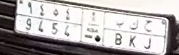4: (37, 3, 47, 34), (64, 7, 72, 39)
5: (52, 7, 61, 36)
9: (23, 1, 35, 32)
B: (113, 19, 125, 47)
J: (143, 19, 154, 52)
K: (128, 17, 140, 50)
